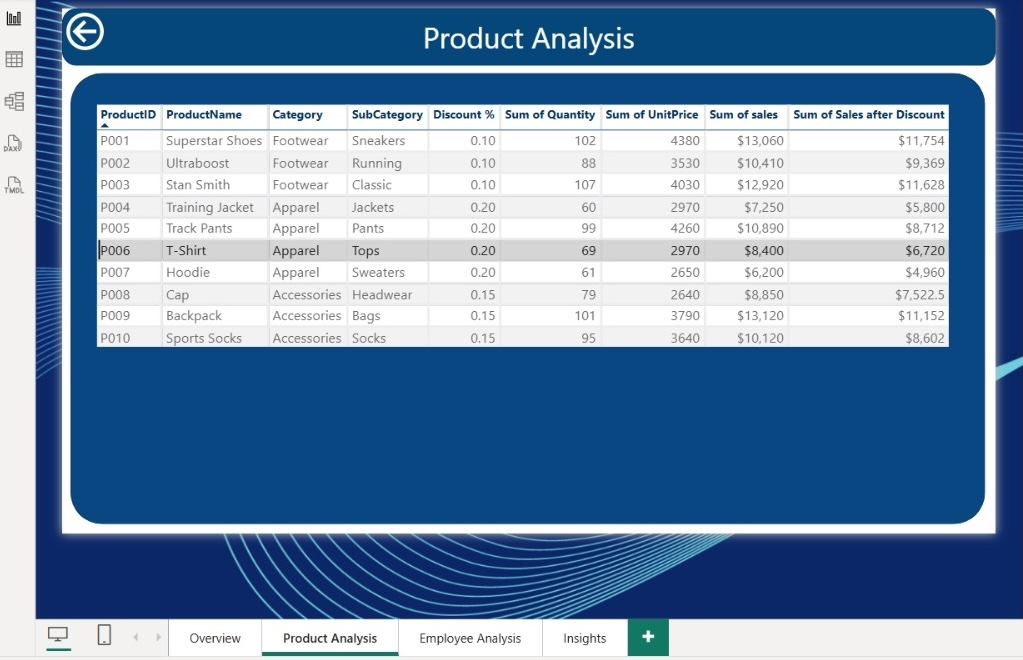

The dashboard page shown, as its layout file describes it:
{"tool":"powerbi","page":{"name":"Product Analysis","canvas":[1280,720],"ordinal":1},"visuals":[{"type":"shape","box":[0,0,1280,78.3],"z":0},{"type":"shape","box":[11.4,88.6,1254.3,618.6],"z":1000},{"type":"tableEx","fields":{"Values":["Products.ProductID","Products.ProductName","Products.Category","Products.SubCategory","Products.Discount %","Sum(Sales.Quantity)","Sum(Sales.UnitPrice)","Sum(Sales.sales)","Sum(Sales.Sales after Discount)"]},"box":[41.4,127.1,1192.9,344.3],"z":2000},{"type":"actionButton","box":[0,0,102.9,62.9],"z":3000}]}

Visuals, with their boxes on the page's 1280x720 design canvas (x1, y1, x2, y2). These are canvas units, not pixel positions in the 1023x660 screenshot, which may show the page scaled, cropped or inside an application window:
shape: 0, 0, 1280, 78
shape: 11, 89, 1266, 707
tableEx - Products.ProductID x Products.ProductName: 41, 127, 1234, 471
actionButton: 0, 0, 103, 63
